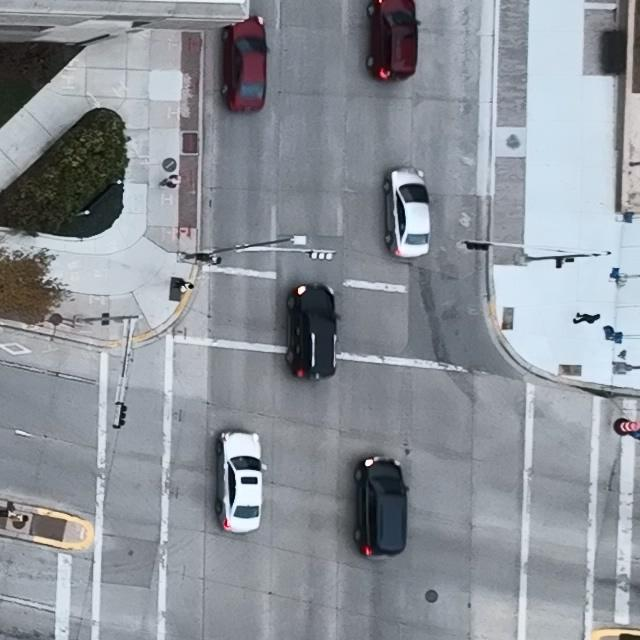car: (354, 455, 410, 557), (215, 431, 268, 533), (285, 284, 340, 381), (221, 16, 271, 113), (366, 0, 422, 82), (382, 168, 430, 259)
